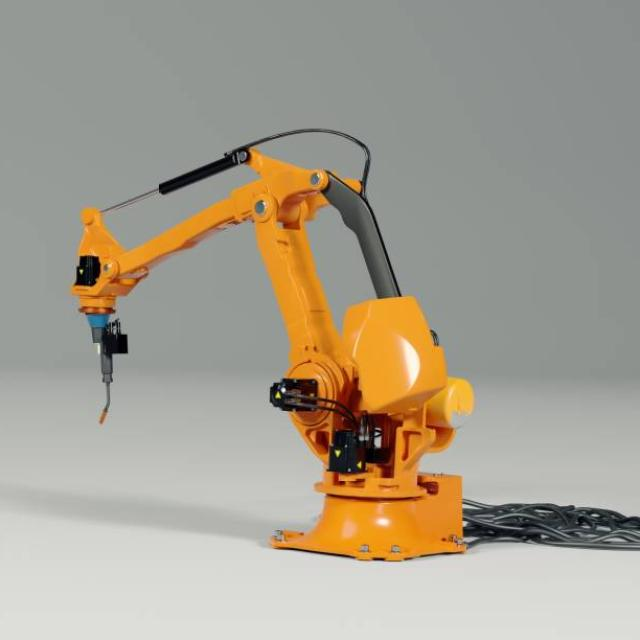Robotic-arm: (67, 122, 489, 566)
